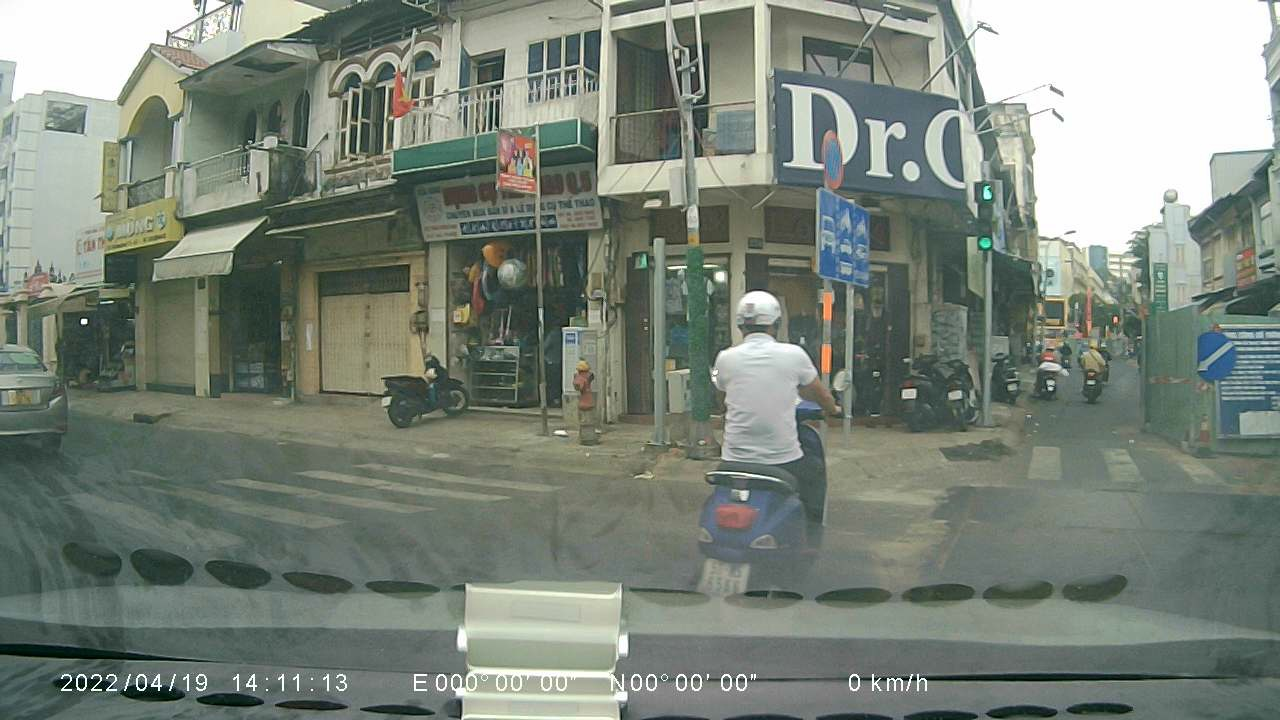Bien khac: (1182, 329, 1237, 383)
